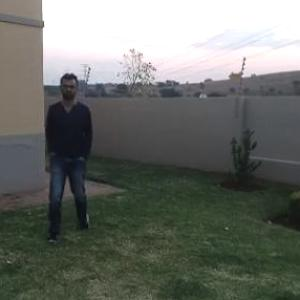follow: (40, 69, 94, 231)
